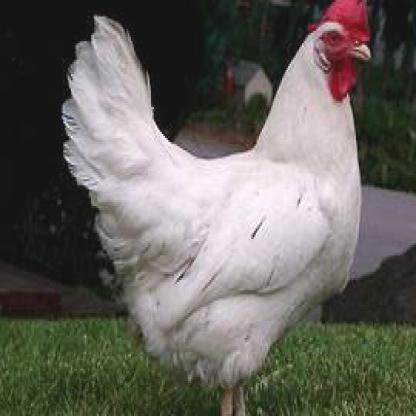chicken: (62, 0, 372, 414)
